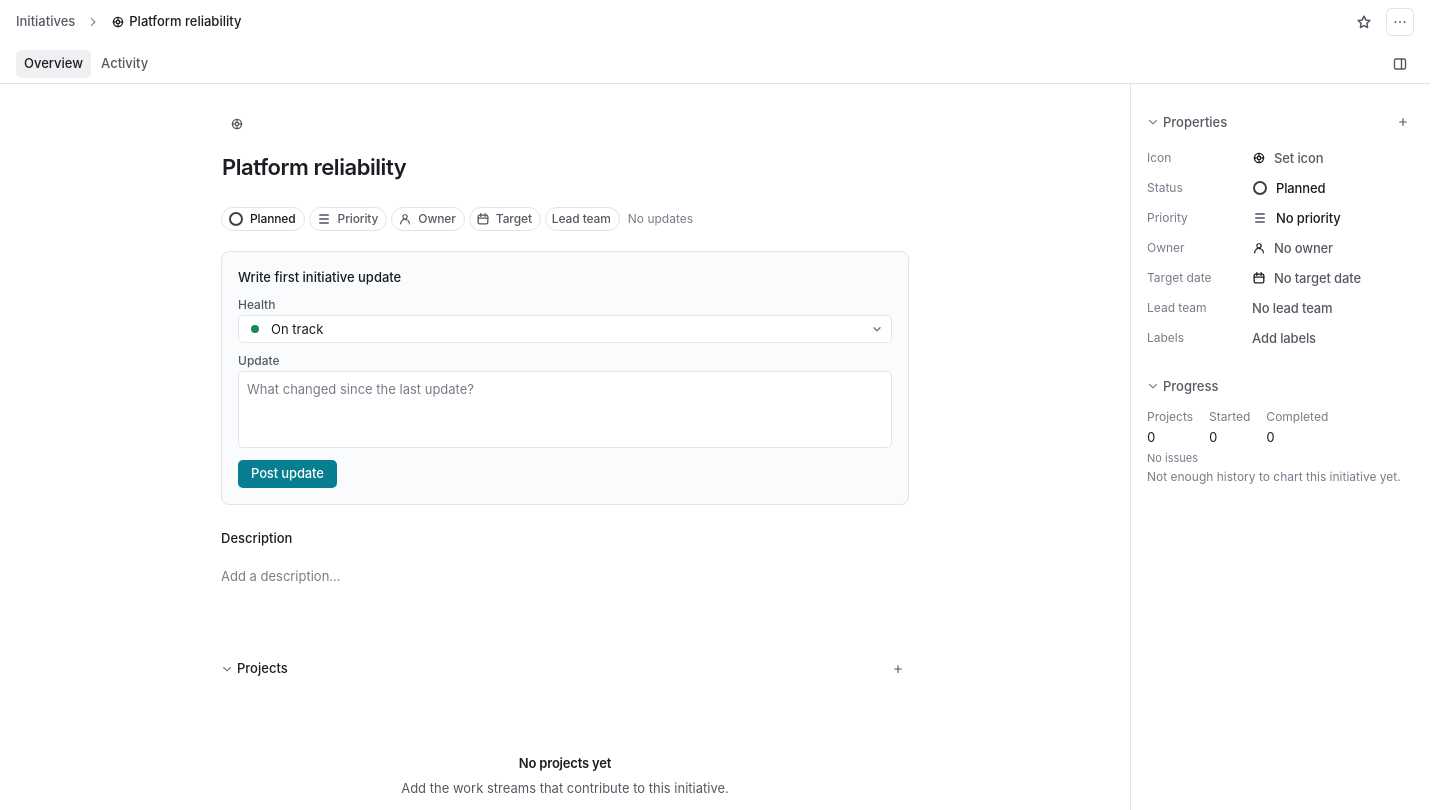
Test: Initiative rename › refuses an empty name and puts the stored one back rather than saving nothing
The width and height of the screenshot is (1440, 810).
Type keys "e"
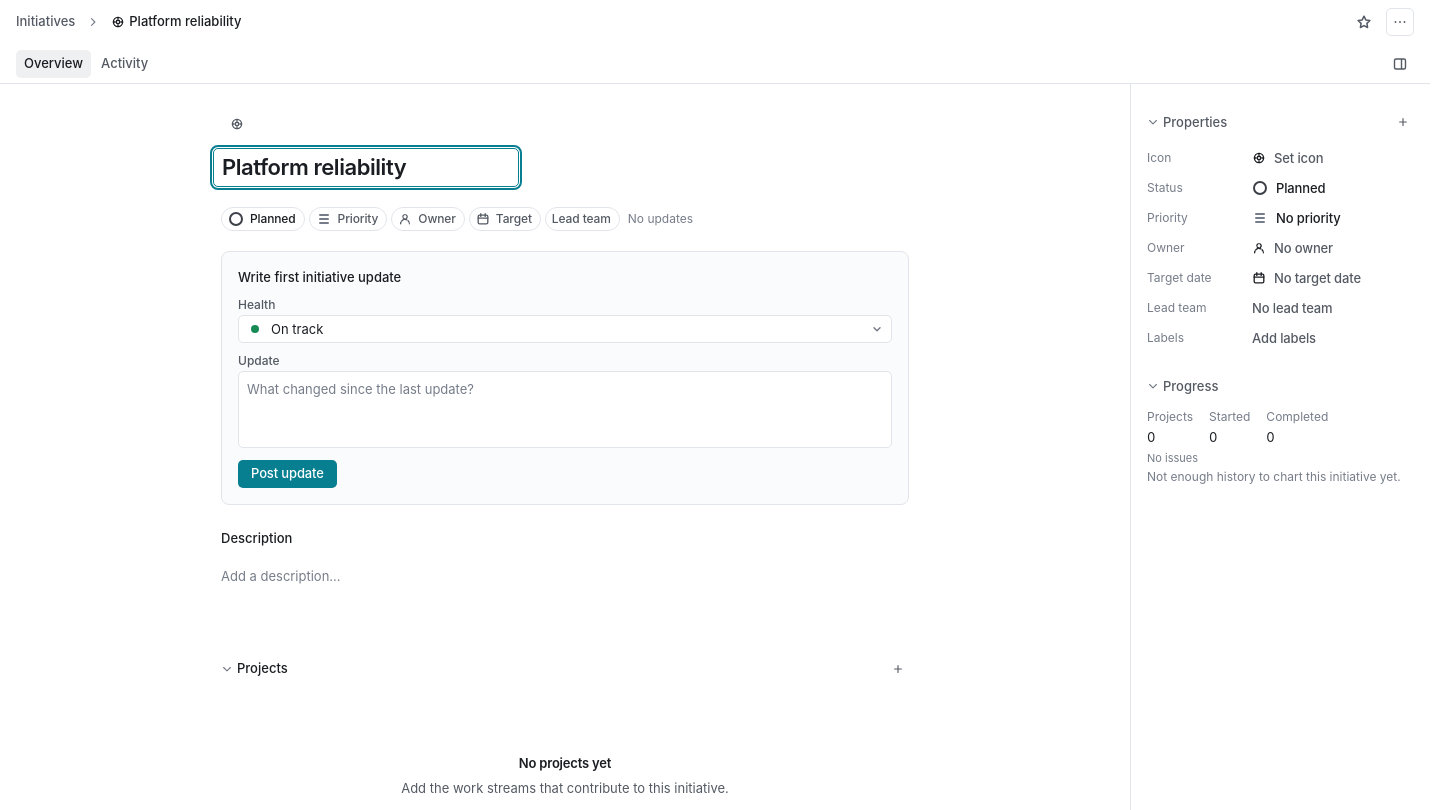
Clear the text box named "Name" at (366, 167), box [213,148,519,187]
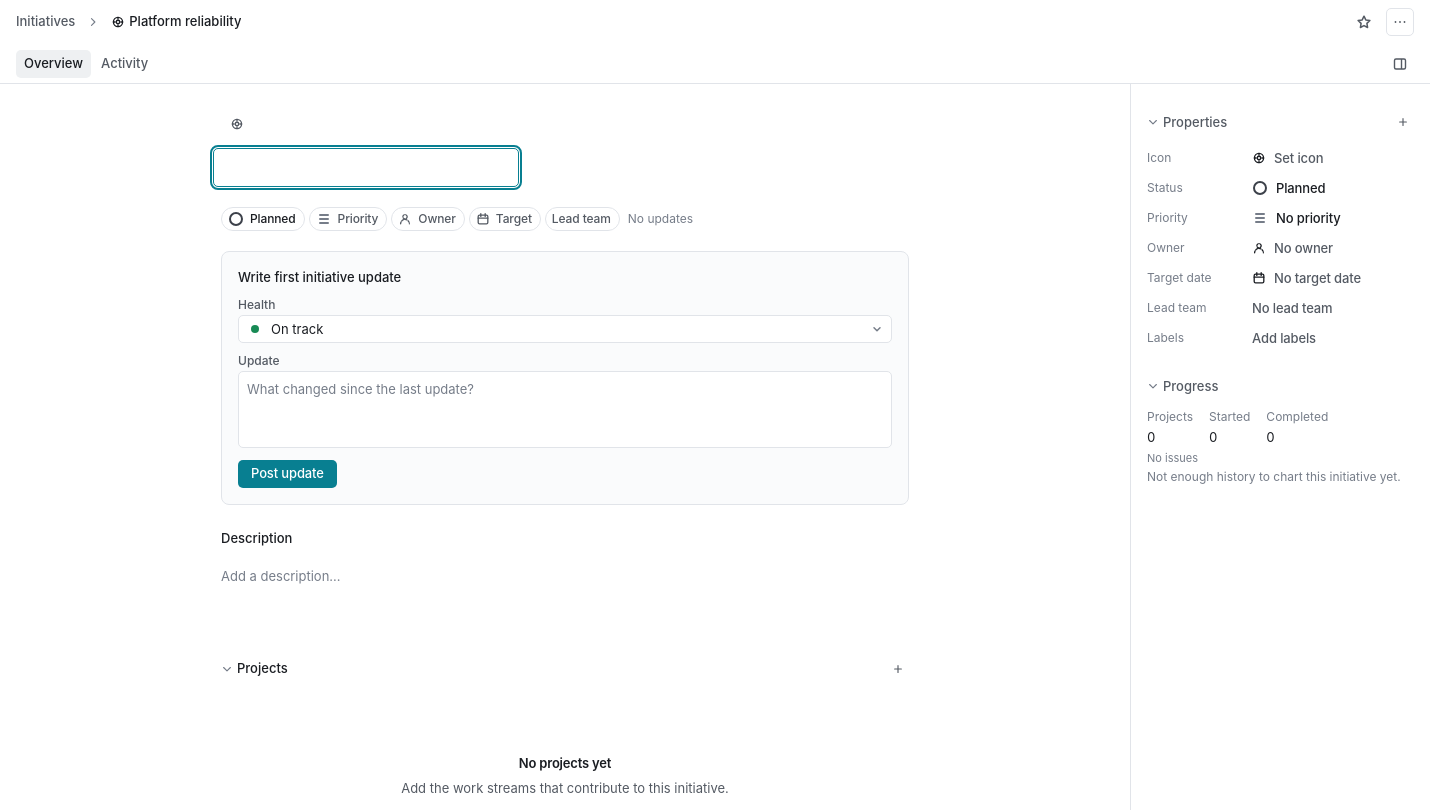
Press Tab
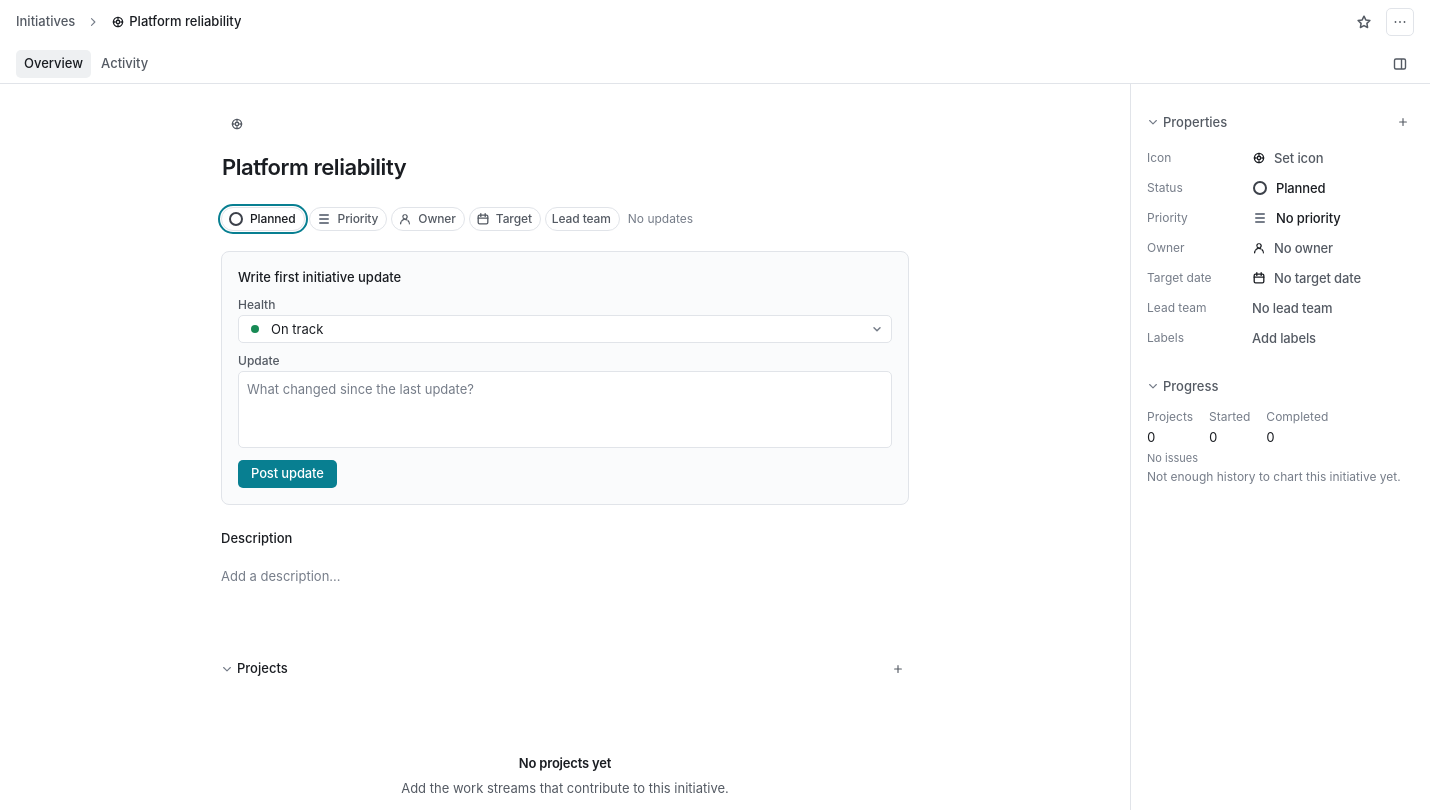
Expected: the text box named "Name" holds "Platform reliability", [213,148,519,187]
